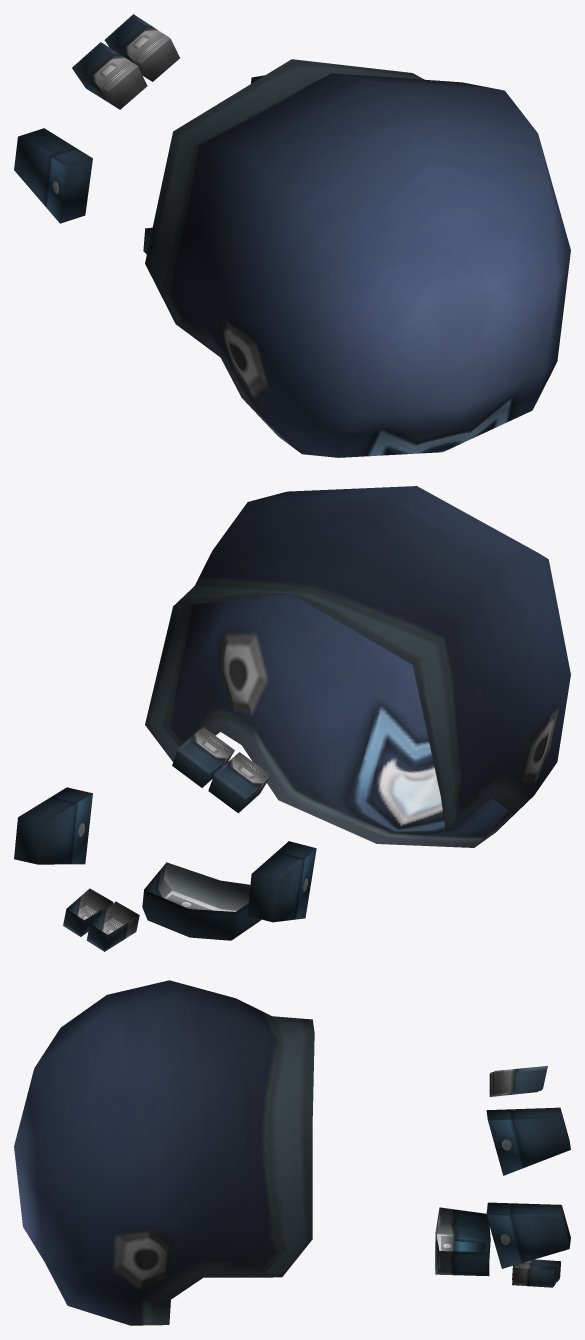
Rendered from Avatar_Swat_H_01_1_0793098a__Avatar_Swat_C_01_04f1fca4_c1f257.obj.
3 renders of one model, top to bottom at view 1: azimuth 30°, elevation 25°; view 2: azimuth 150°, elevation 25°; view 3: azimuth 270°, elevation 25°, orthographic. The views are drawn at different scales.
Size of the model in its own units: 0.8937 by 0.8948 by 1.51.
1 material, 1 textured.
